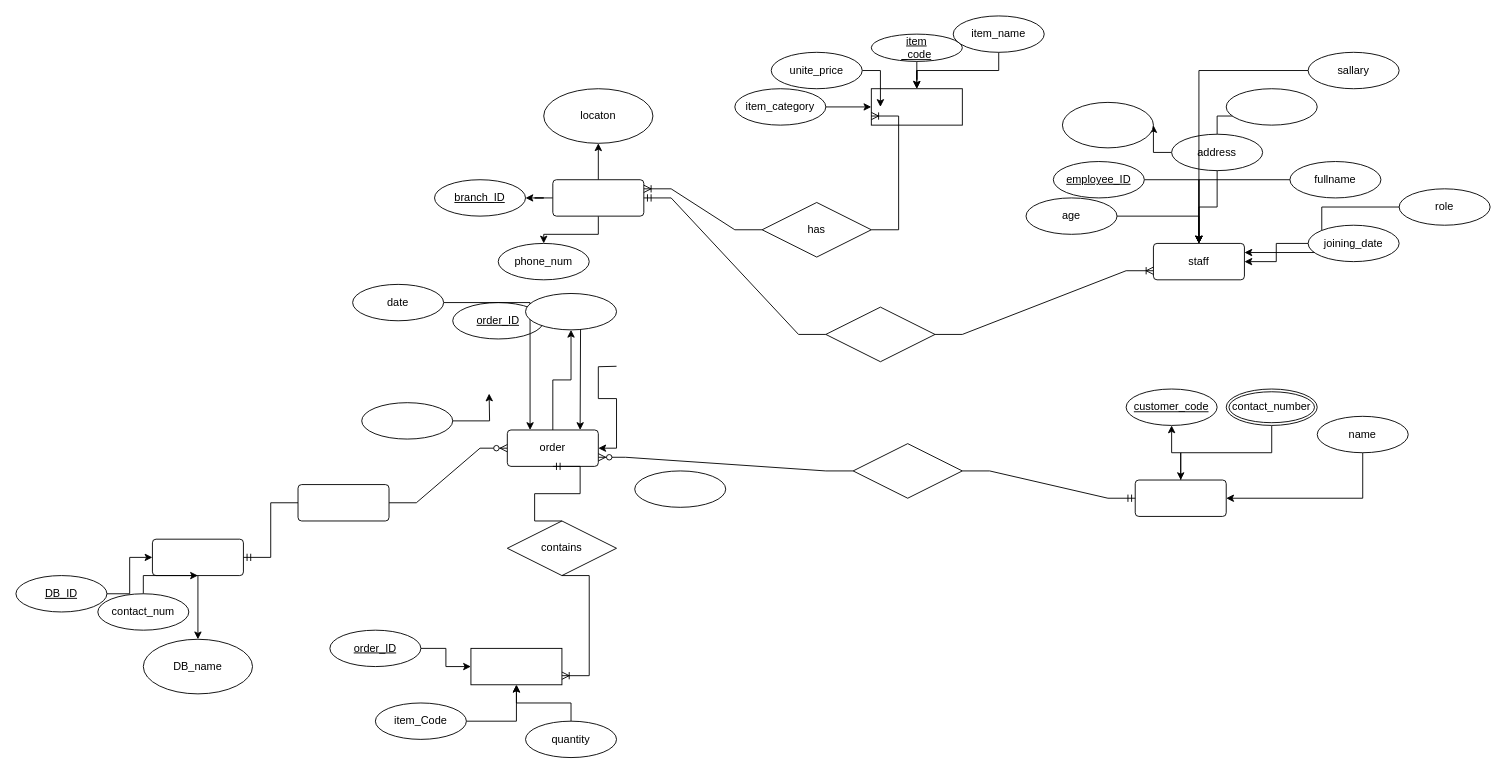
Image size: 1506x774. Some labels were removed from this diagram. The shapes that lost their labels are listed below. From the top down, each one's box as (x1, y1, x2, y2) in pixels, then its label:
(870, 88, 962, 125): menu_item
(1062, 101, 1153, 148): city
(1225, 88, 1317, 125): region
(552, 179, 644, 216): branch
(525, 293, 617, 330): time
(825, 306, 935, 362): worksat
(361, 402, 453, 439): total_bill
(634, 470, 726, 507): desired_address
(852, 443, 962, 498): makes
(297, 484, 389, 521): delivers
(1134, 479, 1226, 516): customer
(152, 538, 243, 576): Delivary_boy
(470, 647, 562, 685): order_item
